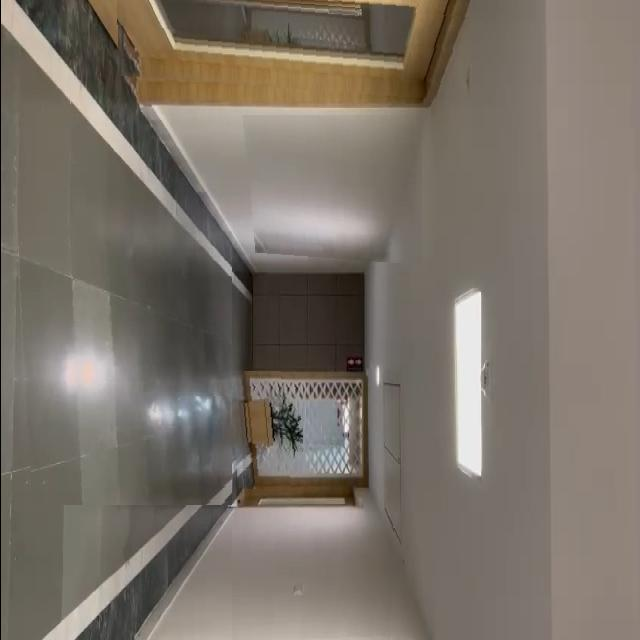door: (115, 0, 469, 102)
floor: (13, 223, 231, 505)
furniture: (226, 371, 302, 490)
wall: (240, 115, 421, 266), (231, 512, 394, 640)
